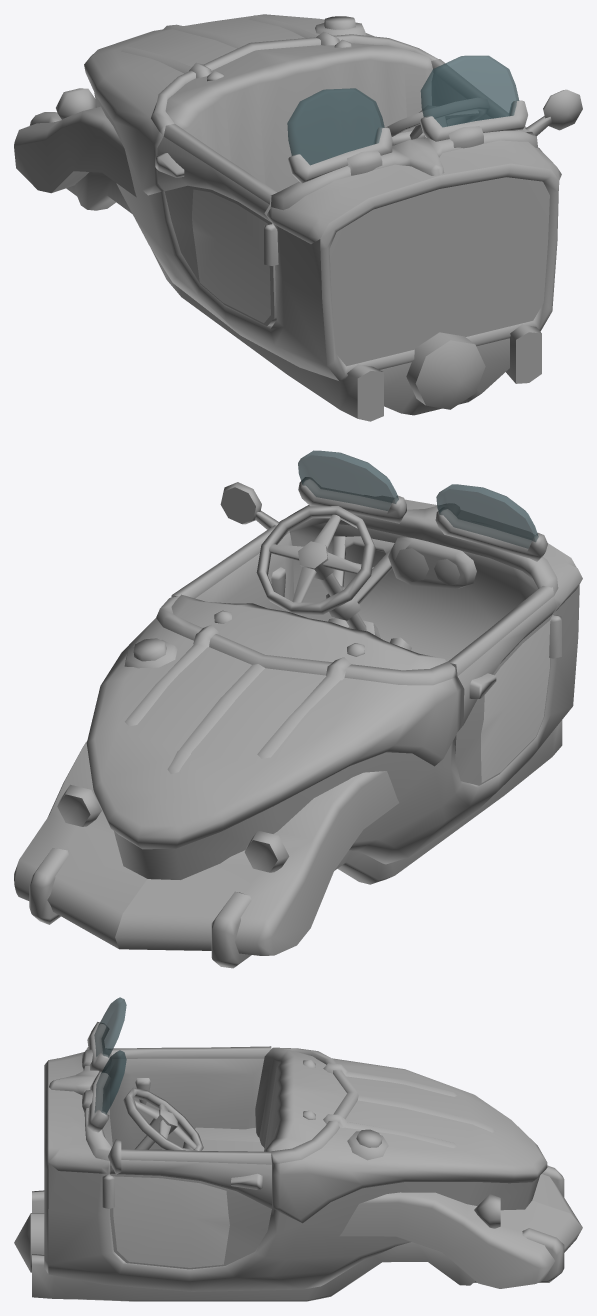
File: Body_Boattail_Roadster.fbx
3 renders of one model, top to bottom at view 1: azimuth 30°, elevation 25°; view 2: azimuth 150°, elevation 25°; view 3: azimuth 270°, elevation 25°, orthographic. The views are drawn at different scales.
Visible parts, largest first — view 1: Bentley_Roadster_Body_Mesh, Bentley_Roadster_Body_Window_Mesh, Bentley_Roadster_Door_Right_Mesh, Bentley_Roadster_Door_Right_Decal_Mesh, Bentley_Rear_Fender_Adapter_Mesh, Bentley_Roadster_Door_Left_Mesh, Bentley_SteerWheel_Mesh; view 2: Bentley_Roadster_Body_Mesh, Bentley_Rear_Fender_Adapter_Mesh, Bentley_Roadster_Body_Window_Mesh, Bentley_Roadster_Door_Right_Mesh, Bentley_SteerWheel_Mesh, Bentley_Roadster_Door_Right_Decal_Mesh, Bentley_Roadster_Door_Left_Mesh; view 3: Bentley_Roadster_Body_Mesh, Bentley_Rear_Fender_Adapter_Mesh, Bentley_Roadster_Door_Right_Mesh, Bentley_Roadster_Door_Left_Decal_Mesh, Bentley_Roadster_Door_Left_Mesh, Bentley_SteerWheel_Mesh, Bentley_Roadster_Body_Window_Mesh.
Boxes of the visible parts, x1=… form: Bentley_Roadster_Body_Mesh: x1=56, y1=14, x2=561, y2=421; Bentley_Roadster_Body_Window_Mesh: x1=287, y1=55, x2=519, y2=165; Bentley_Roadster_Door_Right_Mesh: x1=155, y1=123, x2=276, y2=326; Bentley_Roadster_Door_Right_Decal_Mesh: x1=192, y1=189, x2=270, y2=322; Bentley_Rear_Fender_Adapter_Mesh: x1=14, y1=106, x2=136, y2=197; Bentley_Roadster_Door_Left_Mesh: x1=431, y1=59, x2=582, y2=136; Bentley_SteerWheel_Mesh: x1=387, y1=98, x2=489, y2=145; Bentley_Roadster_Body_Mesh: x1=57, y1=477, x2=582, y2=884; Bentley_Rear_Fender_Adapter_Mesh: x1=14, y1=741, x2=399, y2=968; Bentley_Roadster_Body_Window_Mesh: x1=298, y1=450, x2=538, y2=548; Bentley_Roadster_Door_Right_Mesh: x1=448, y1=586, x2=557, y2=785; Bentley_SteerWheel_Mesh: x1=256, y1=506, x2=375, y2=631; Bentley_Roadster_Door_Right_Decal_Mesh: x1=481, y1=619, x2=551, y2=782; Bentley_Roadster_Door_Left_Mesh: x1=171, y1=482, x2=294, y2=611; Bentley_Roadster_Body_Mesh: x1=14, y1=1022, x2=547, y2=1301; Bentley_Rear_Fender_Adapter_Mesh: x1=339, y1=1165, x2=582, y2=1288; Bentley_Roadster_Door_Right_Mesh: x1=110, y1=1046, x2=271, y2=1149; Bentley_Roadster_Door_Left_Decal_Mesh: x1=113, y1=1176, x2=229, y2=1267; Bentley_Roadster_Door_Left_Mesh: x1=108, y1=1139, x2=271, y2=1269; Bentley_SteerWheel_Mesh: x1=123, y1=1087, x2=203, y2=1150; Bentley_Roadster_Body_Window_Mesh: x1=94, y1=997, x2=126, y2=1114.
Size of the model in its own units: 165 by 140 by 295.
